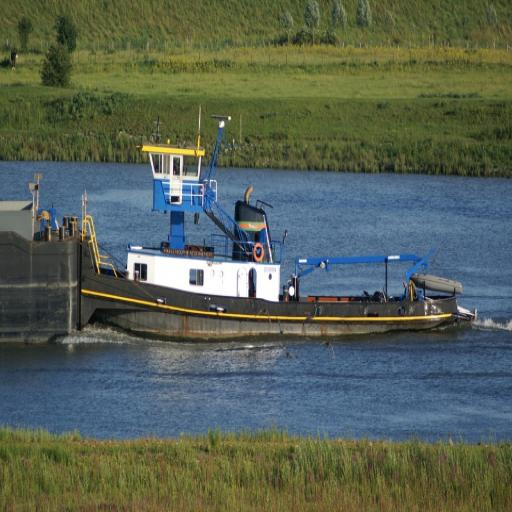tugboat: (75, 112, 478, 354)
